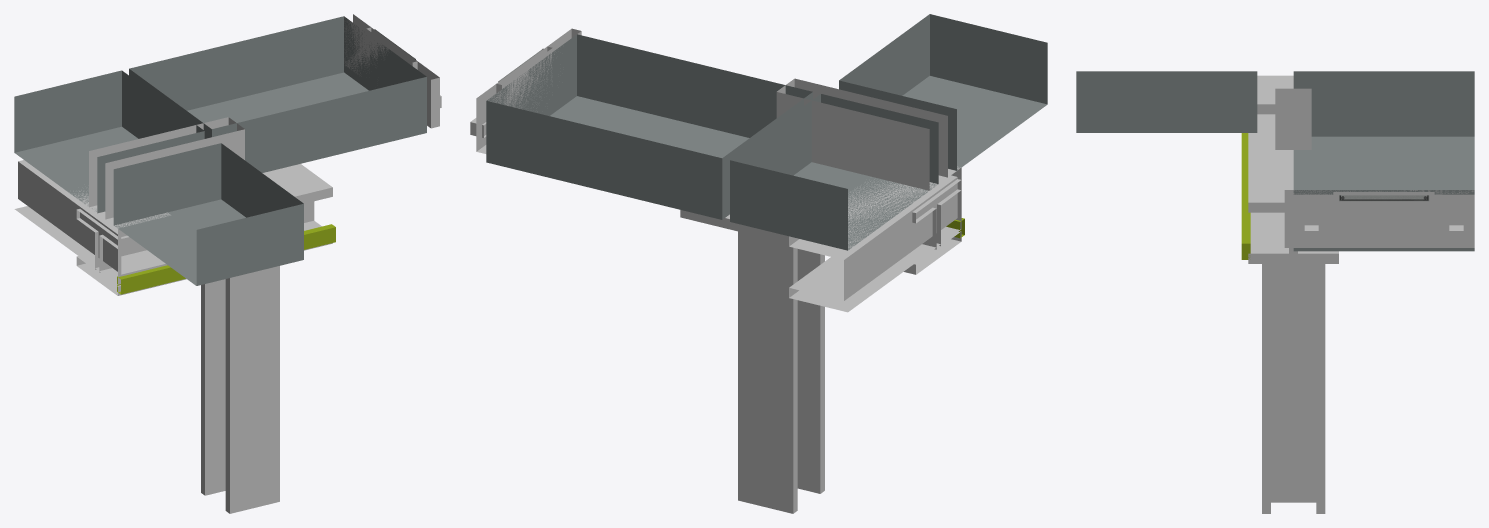
Rendered from cell_23.obj.
The picture shows the model from 3 angles, left to right: view 1: azimuth 30°, elevation 25°; view 2: azimuth 150°, elevation 25°; view 3: azimuth 270°, elevation 25°; orthographic projection. The views are drawn at different scales.
Size of the model in its own units: 0.975 by 1 by 0.88.
